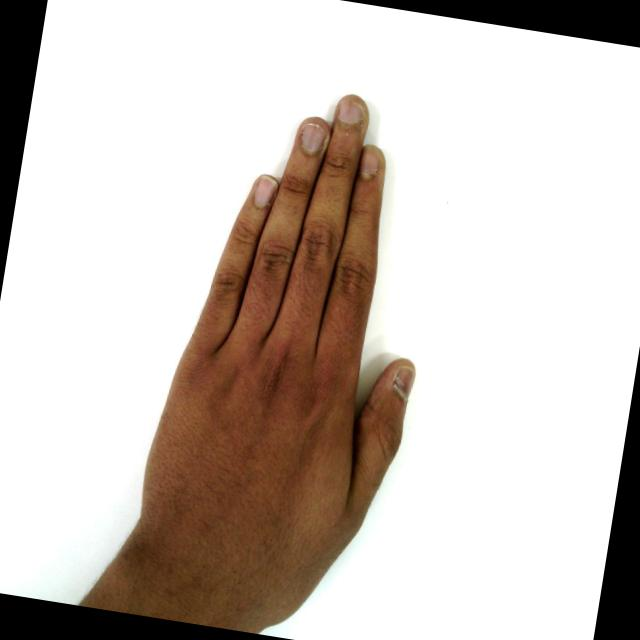Nail: (358, 143, 383, 177), (393, 363, 415, 400), (253, 173, 277, 206), (300, 121, 326, 151), (337, 96, 363, 123)
